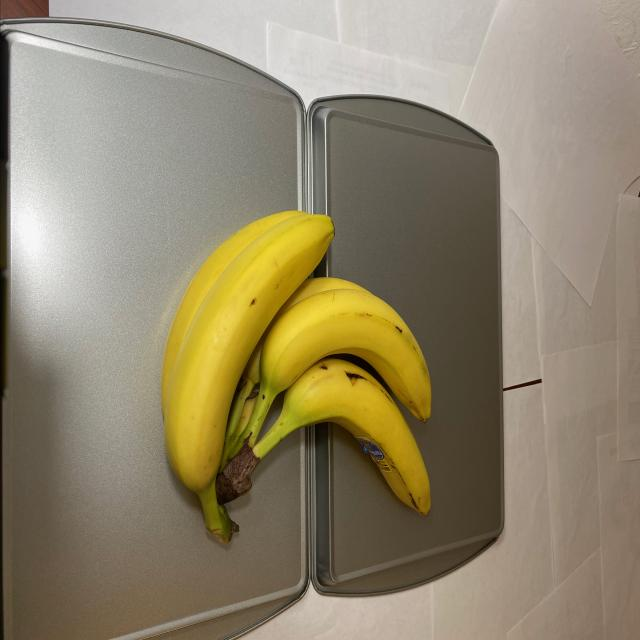Banana: (163, 206, 434, 530)
